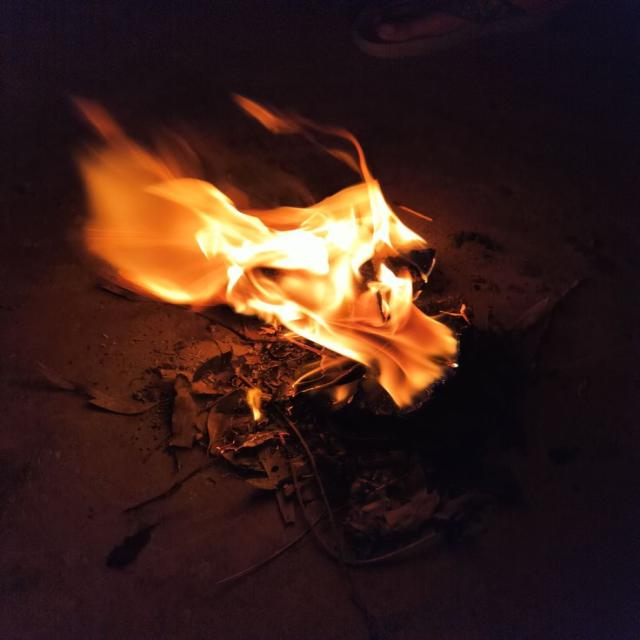fire: (67, 90, 456, 406)
